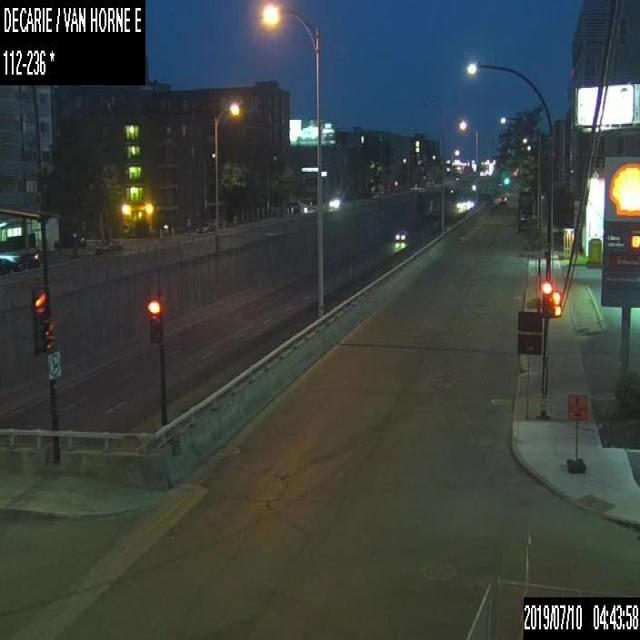construction: (566, 391, 586, 470)
vehicle: (517, 190, 533, 231), (0, 257, 17, 274), (195, 221, 214, 232), (393, 228, 408, 240), (499, 194, 507, 202)
